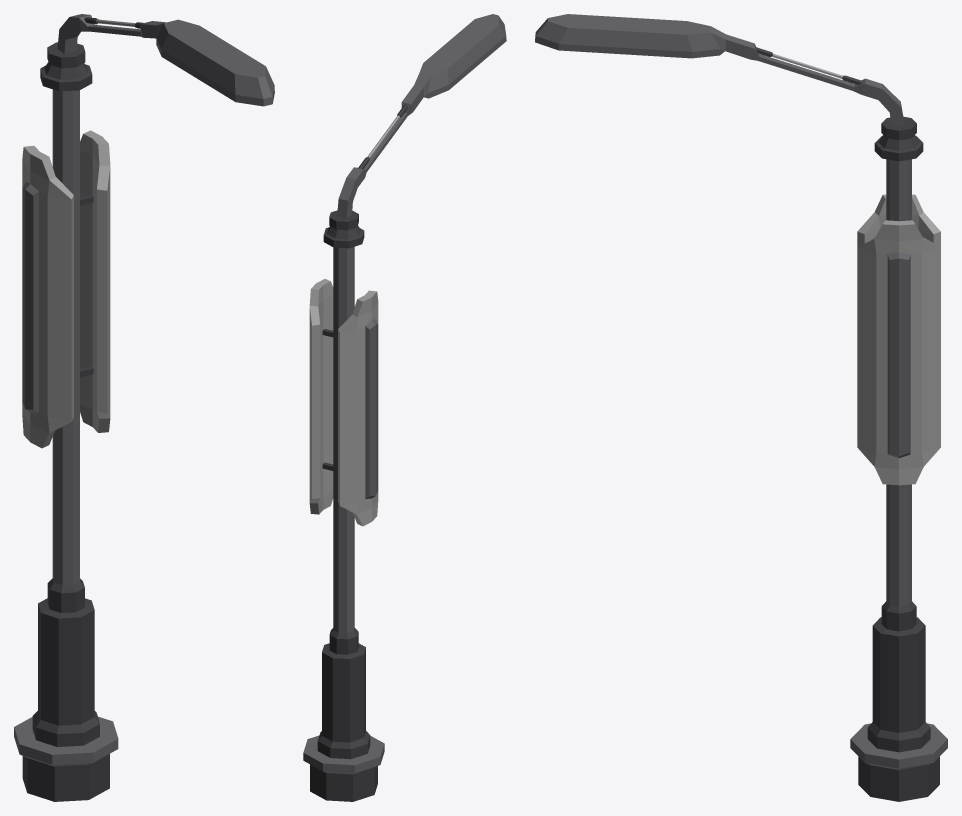
File: streetlamp.glb
3 views of the same model, side by side, from view 1: azimuth 30°, elevation 25°; view 2: azimuth 150°, elevation 25°; view 3: azimuth 270°, elevation 25° (orthographic). The views are drawn at different scales.
Parts seen in each view (by area): view 1: SM_Prop_Streetlight_01; view 2: SM_Prop_Streetlight_01; view 3: SM_Prop_Streetlight_01.
Part boxes in pixels (x1,y1,x2,y2): SM_Prop_Streetlight_01: (14, 14, 274, 801); SM_Prop_Streetlight_01: (303, 14, 506, 801); SM_Prop_Streetlight_01: (535, 14, 947, 801).
Bounding box in the file's own units: 0.6226 × 5.4 × 2.64.
1 material, 1 textured.
